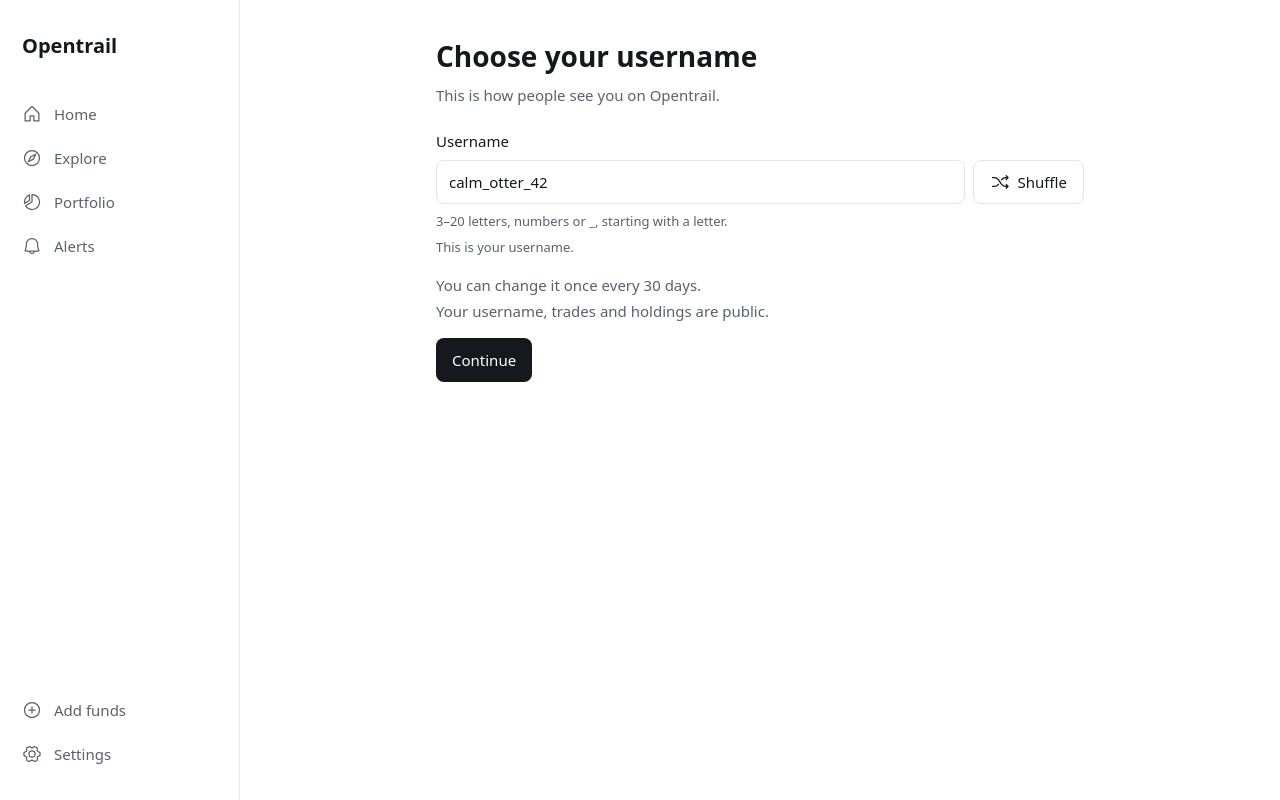
Test: onboarding › suggests another free name with Shuffle
Expected: the heading "Choose your username" is shown, [436,40,757,72]
Step 1. Click the button "Shuffle" → (1028, 182), box [973,160,1084,204]
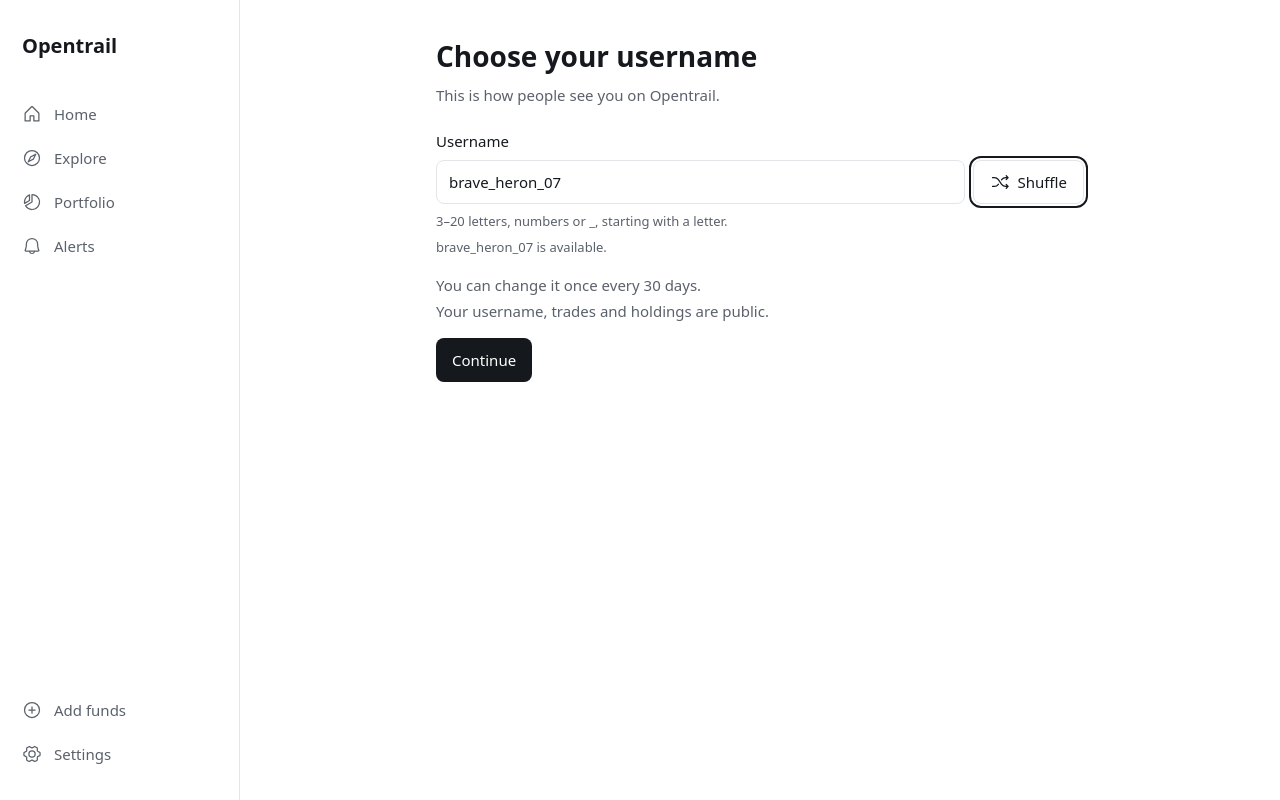
Expected: the field labelled "Username" holds "brave_heron_07", [436,160,965,204]
Expected: the text "brave_heron_07 is available." is shown, [436,238,607,256]
